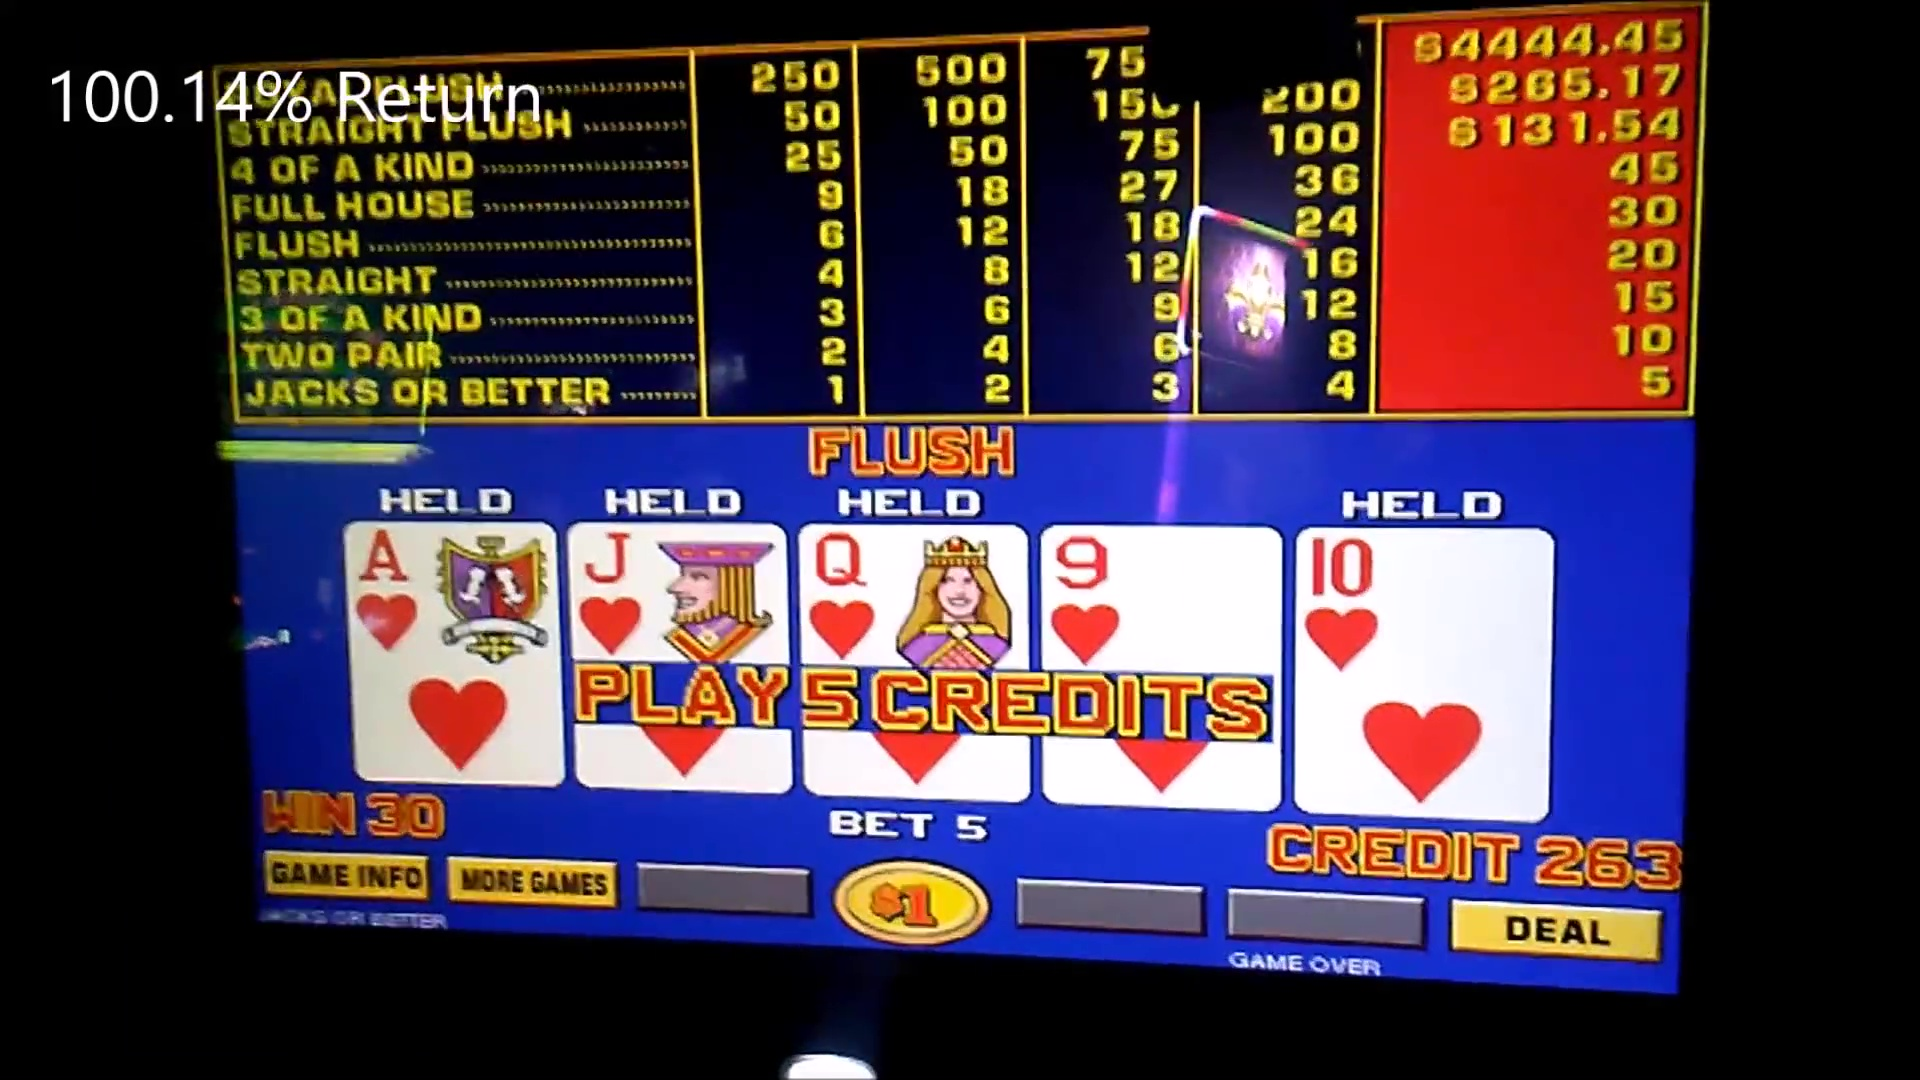9H: (1043, 527, 1280, 666)
AH: (345, 524, 558, 655)
JH: (576, 522, 789, 655)
QH: (803, 526, 1029, 659)
TH: (1294, 531, 1552, 674)
